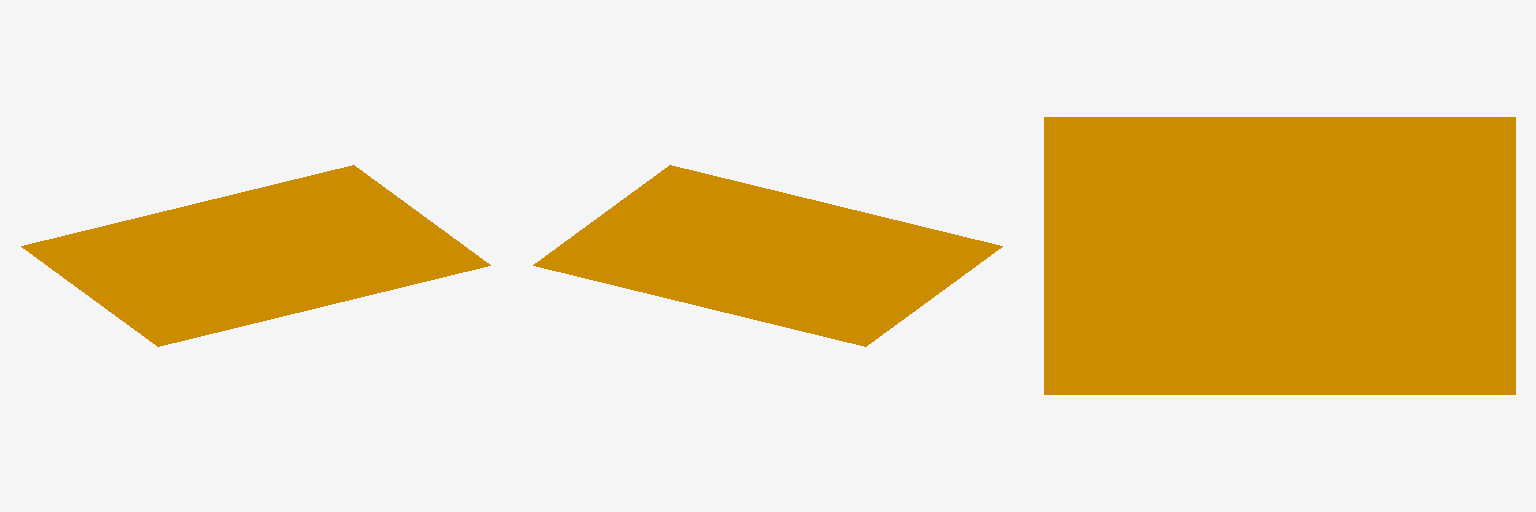
The robot description file, URDF, robot "real_map":
<?xml version="1.0"?>
<robot name="real_map">
  <link name="base_link">
    <visual>
      <origin xyz="0 0 0" rpy="0 0 0"/>
      <geometry>
        <mesh filename="modelfiles/Untitled.dae"
              scale="1 1 1"/>
      </geometry>
      
    </visual>
    <collision>
      <origin xyz="0 0 0" rpy="0 0 0"/>
      <geometry>
        <mesh filename="modelfiles/Untitled.dae"
              scale="1 1 1"/>
      </geometry>
    </collision>
    <inertial>
      <mass value="1"/>
      <inertia ixx="0.1" ixy="0" ixz="0" iyy="0.1" iyz="0" izz="0.1"/>
    </inertial>
  </link>
</robot>

--- Facts derived from the render (not from the file) ---
3 views of the same robot in one strip: view 1: azimuth 30°, elevation 25°; view 2: azimuth 150°, elevation 25°; view 3: azimuth 270°, elevation 25° (orthographic).
Model real_map with 1 links and 0 joints (none), rooted at base_link, posed every joint at zero.
Visible links, largest first — view 1: base_link; view 2: base_link; view 3: base_link.
Link boxes in pixels (box(x1,y1,x2,y2)): base_link: box(21, 165, 490, 346); base_link: box(533, 165, 1002, 346); base_link: box(1044, 117, 1515, 394).
Bounding box of the posed robot: 68488 × 48920 × 0 m (x, y, z).
1 mesh visuals loaded from 1 distinct referenced files (1 Collada DAE).
